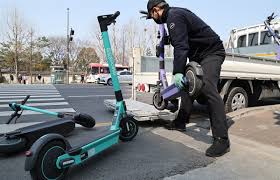fallin_kick: (2, 96, 95, 150)
kick_board: (24, 11, 140, 180)
kick_body: (73, 131, 120, 157)
kick_handler: (97, 10, 121, 31)
kick_neck: (100, 33, 126, 112)
kick_wheel: (27, 136, 70, 178), (117, 117, 139, 141), (77, 112, 95, 129)
